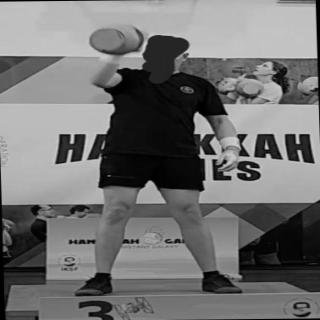kettlebell: (84, 24, 151, 57)
